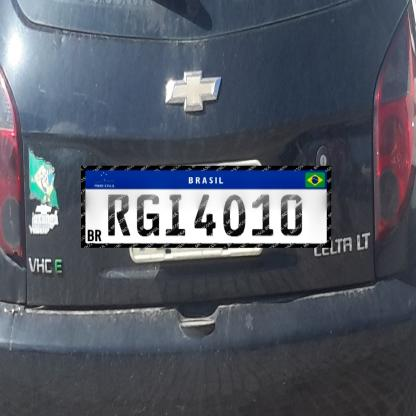PlacaM: (81, 166, 331, 248)
